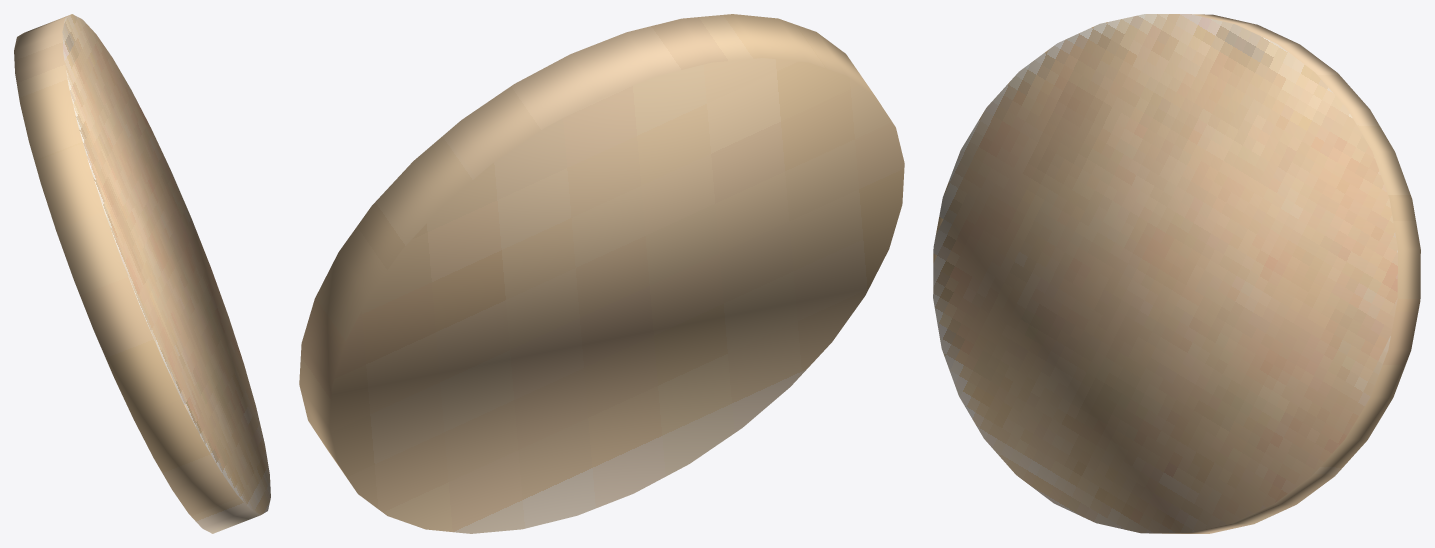
File: AL_Mazapan_Static.fbx
3 views of the same model, side by side, from view 1: azimuth 30°, elevation 25°; view 2: azimuth 150°, elevation 25°; view 3: azimuth 270°, elevation 25° (orthographic). The views are drawn at different scales.
Visible parts, largest first — view 1: Circle; view 2: Circle; view 3: Circle.
Boxes of the visible parts, x1,y1,x2,y2 form: Circle: (14,14,270,533); Circle: (299,14,904,533); Circle: (933,14,1420,533).
Bounding box in the file's own units: 0.1227 × 0.1255 × 0.088.
